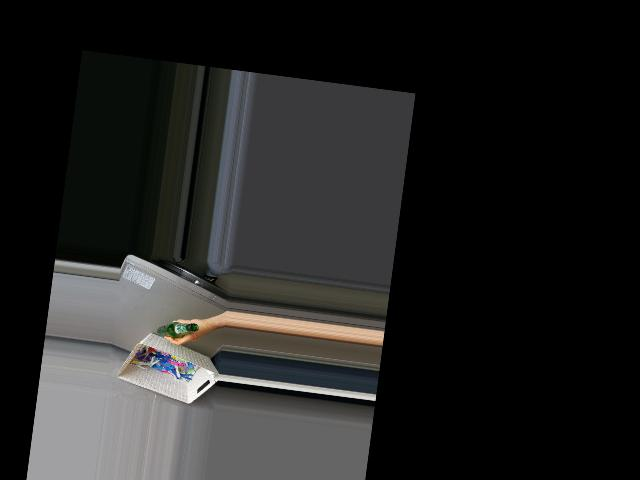beer: (156, 318, 199, 342)
